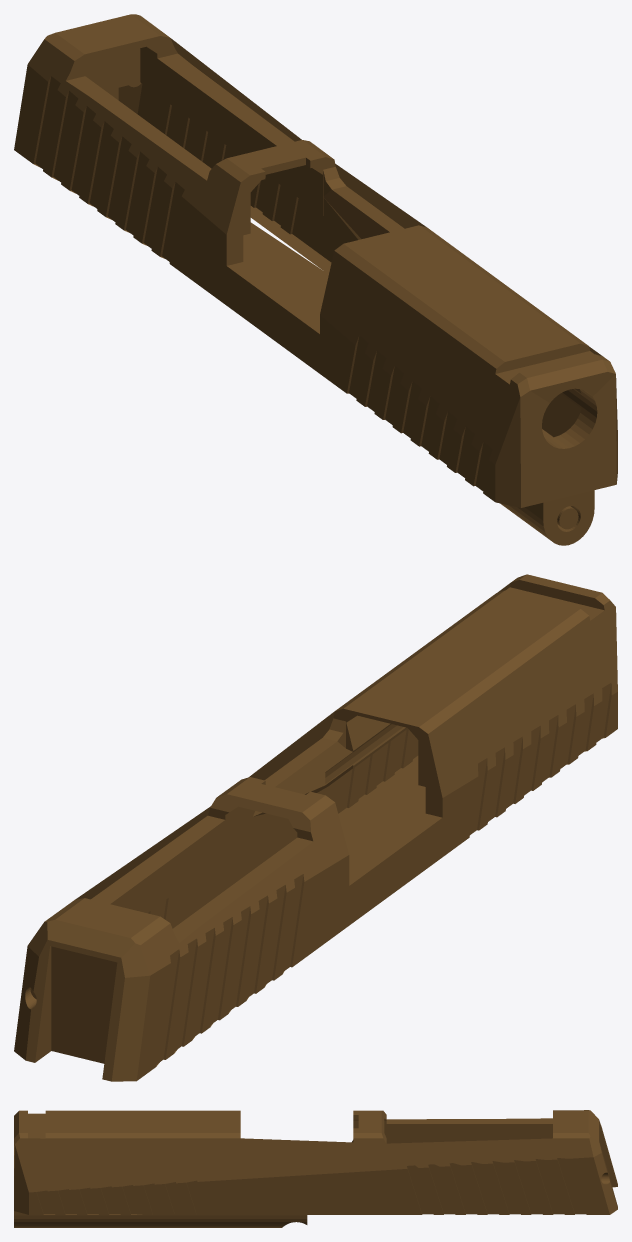
File: Slide2.obj
3 views of the same model, one above another, from view 1: azimuth 30°, elevation 25°; view 2: azimuth 150°, elevation 25°; view 3: azimuth 270°, elevation 25° (orthographic). The views are drawn at different scales.
Parts seen in each view (by area): view 1: Cube.001_Cube.002; view 2: Cube.001_Cube.002; view 3: Cube.001_Cube.002.
Part boxes in pixels (left/top/right/bottom): Cube.001_Cube.002: left=14, top=14, right=617, bottom=545; Cube.001_Cube.002: left=14, top=574, right=617, bottom=1081; Cube.001_Cube.002: left=14, top=1110, right=617, bottom=1227.
Size of the model in its own units: 0.0392 by 0.0528 by 0.2766.
